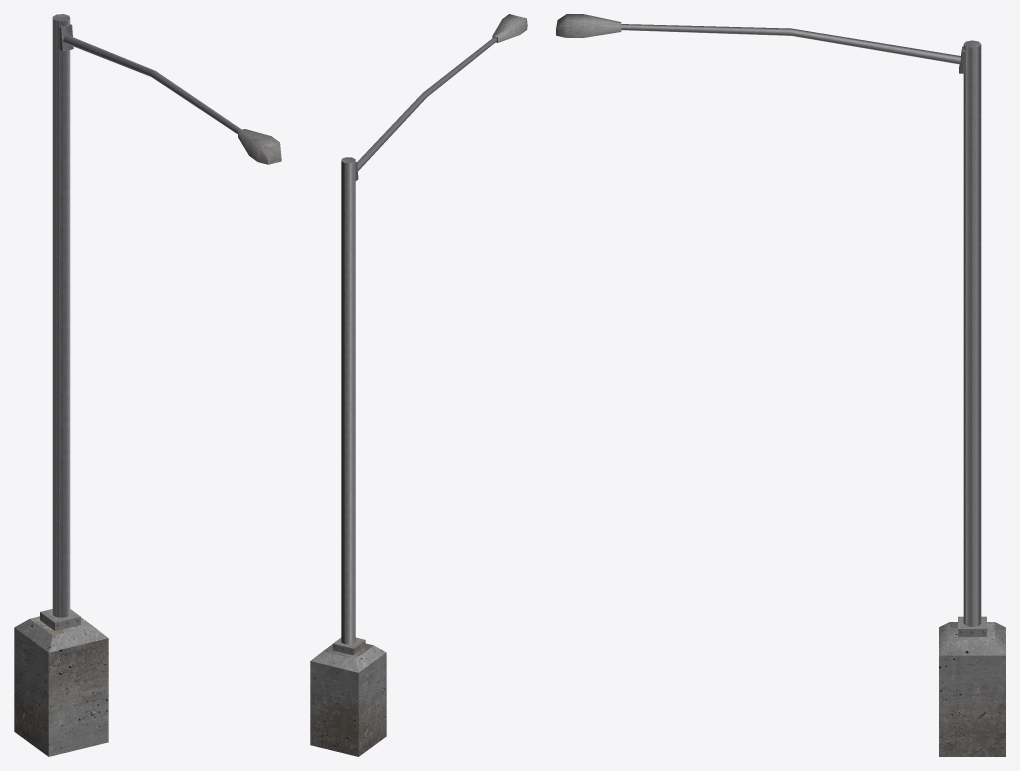
Rendered from streetlight.fbx.
3 views of the same model, side by side, from view 1: azimuth 30°, elevation 25°; view 2: azimuth 150°, elevation 25°; view 3: azimuth 270°, elevation 25° (orthographic). The views are drawn at different scales.
Visible parts, largest first — view 1: mesh_0, mesh_1; view 2: mesh_0, mesh_1; view 3: mesh_0, mesh_1.
Boxes of the visible parts, bbox=[...] form: mesh_0: bbox=[14, 14, 241, 756]; mesh_1: bbox=[40, 129, 281, 630]; mesh_0: bbox=[310, 37, 497, 756]; mesh_1: bbox=[332, 14, 527, 655]; mesh_0: bbox=[621, 24, 1005, 756]; mesh_1: bbox=[556, 14, 986, 636].
Bounding box in the file's own units: 60 × 715 × 403.
2 materials, 2 textured.
